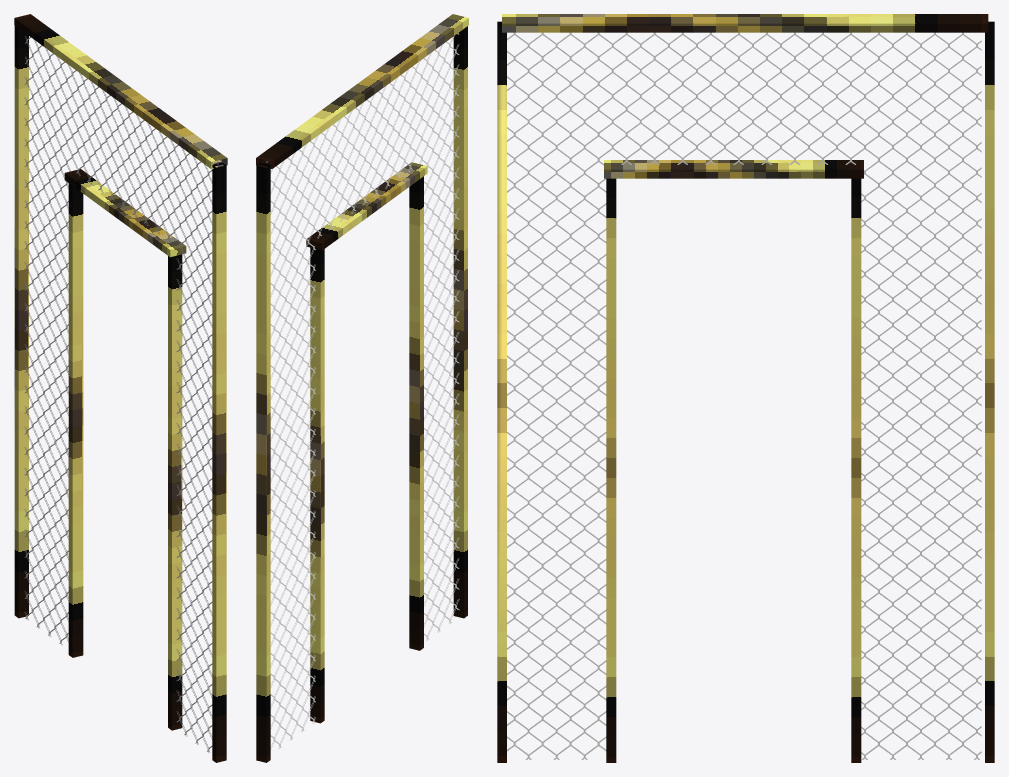
File: zalianmen.FBX
3 views of the same model, side by side, from view 1: azimuth 30°, elevation 25°; view 2: azimuth 150°, elevation 25°; view 3: azimuth 270°, elevation 25° (orthographic). The views are drawn at different scales.
Visible parts, largest first — view 1: Object08; view 2: Object08; view 3: Object08.
Boxes of the visible parts, box(x1,y1,x2,y2) form: Object08: box(14, 14, 227, 762); Object08: box(256, 14, 468, 762); Object08: box(497, 14, 994, 762).
Bounding box in the file's own units: 2.69 × 58.11 × 95.48.
